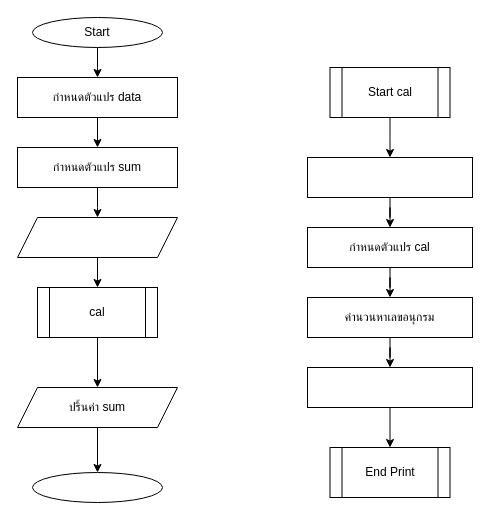
This 490x520 diagram has some shape labels left out. Here are the shapes that lost their labels. From the top down, the centre of each, then its label:
point 389,177: กำหนดตัวแปร result
point 97,237: กรอกค่าตัวแปร data
point 389,387: ส่งค่าออกที่ตัวแปร Sum
point 97,487: End
